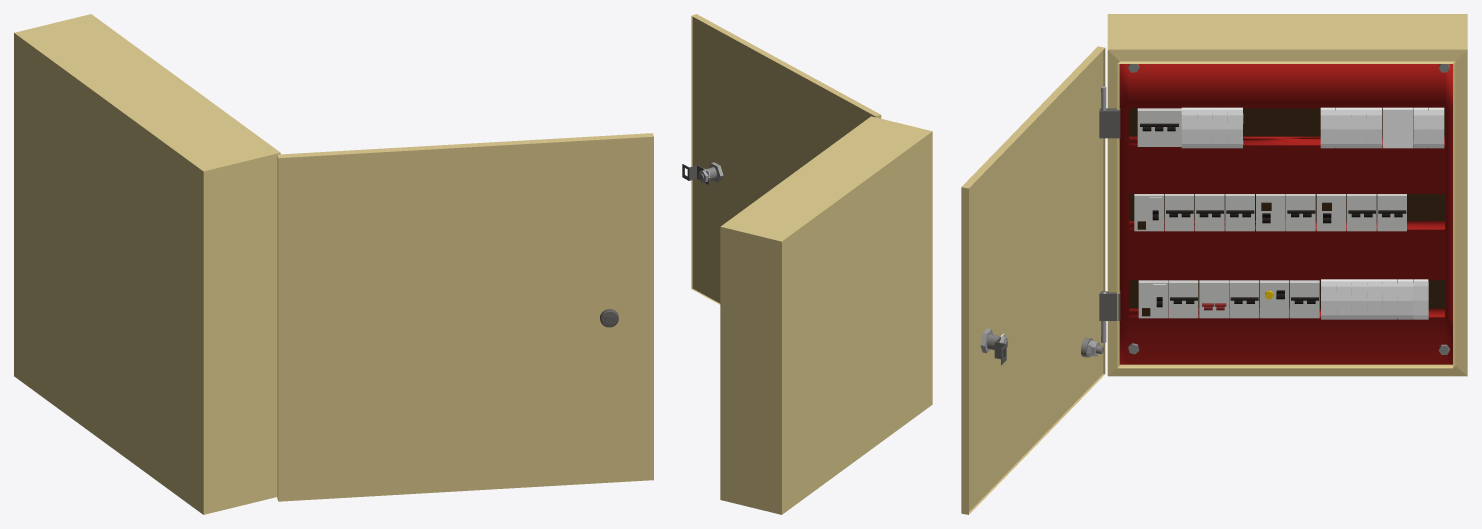
The model's file is CajaDeInterruptoresParaUnity.fbx.
3 renders of one model, left to right at view 1: azimuth 30°, elevation 25°; view 2: azimuth 150°, elevation 25°; view 3: azimuth 270°, elevation 25°, orthographic. The views are drawn at different scales.
Visible parts, largest first — view 1: CajaDeInterruptores; view 2: CajaDeInterruptores; view 3: CajaDeInterruptores.
Boxes of the visible parts, left/top/right/bottom form: CajaDeInterruptores: left=14, top=14, right=653, bottom=514; CajaDeInterruptores: left=682, top=14, right=932, bottom=514; CajaDeInterruptores: left=961, top=14, right=1467, bottom=514.
Size of the model in its own units: 48.73 by 42.5 by 59.75.
1 material, 1 textured.
